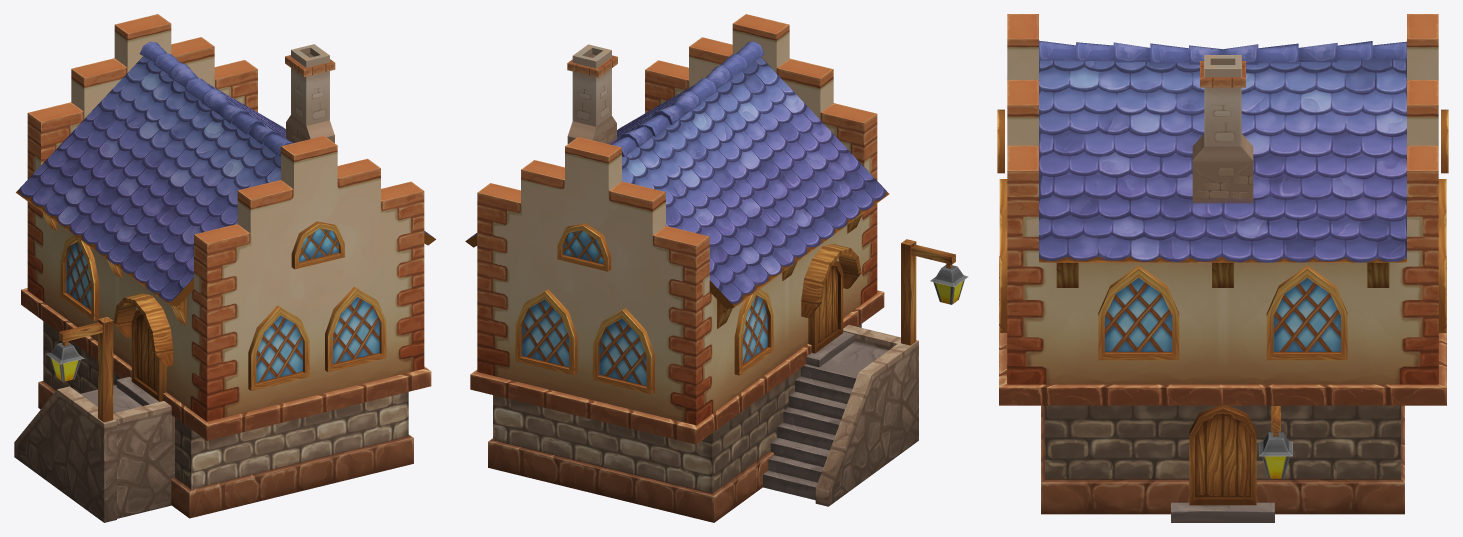
Rendered from Large_house.FBX.
3 renders of one model, left to right at view 1: azimuth 30°, elevation 25°; view 2: azimuth 150°, elevation 25°; view 3: azimuth 270°, elevation 25°, orthographic. The views are drawn at different scales.
Parts seen in each view (by area): view 1: Large_house; view 2: Large_house; view 3: Large_house.
Part boxes in pixels (<box>): Large_house: <box>14,14,435,522</box>; Large_house: <box>465,14,968,522</box>; Large_house: <box>997,14,1448,522</box>.
Size of what is drawn, in the model's own units: 1166 by 1017 by 1085.
